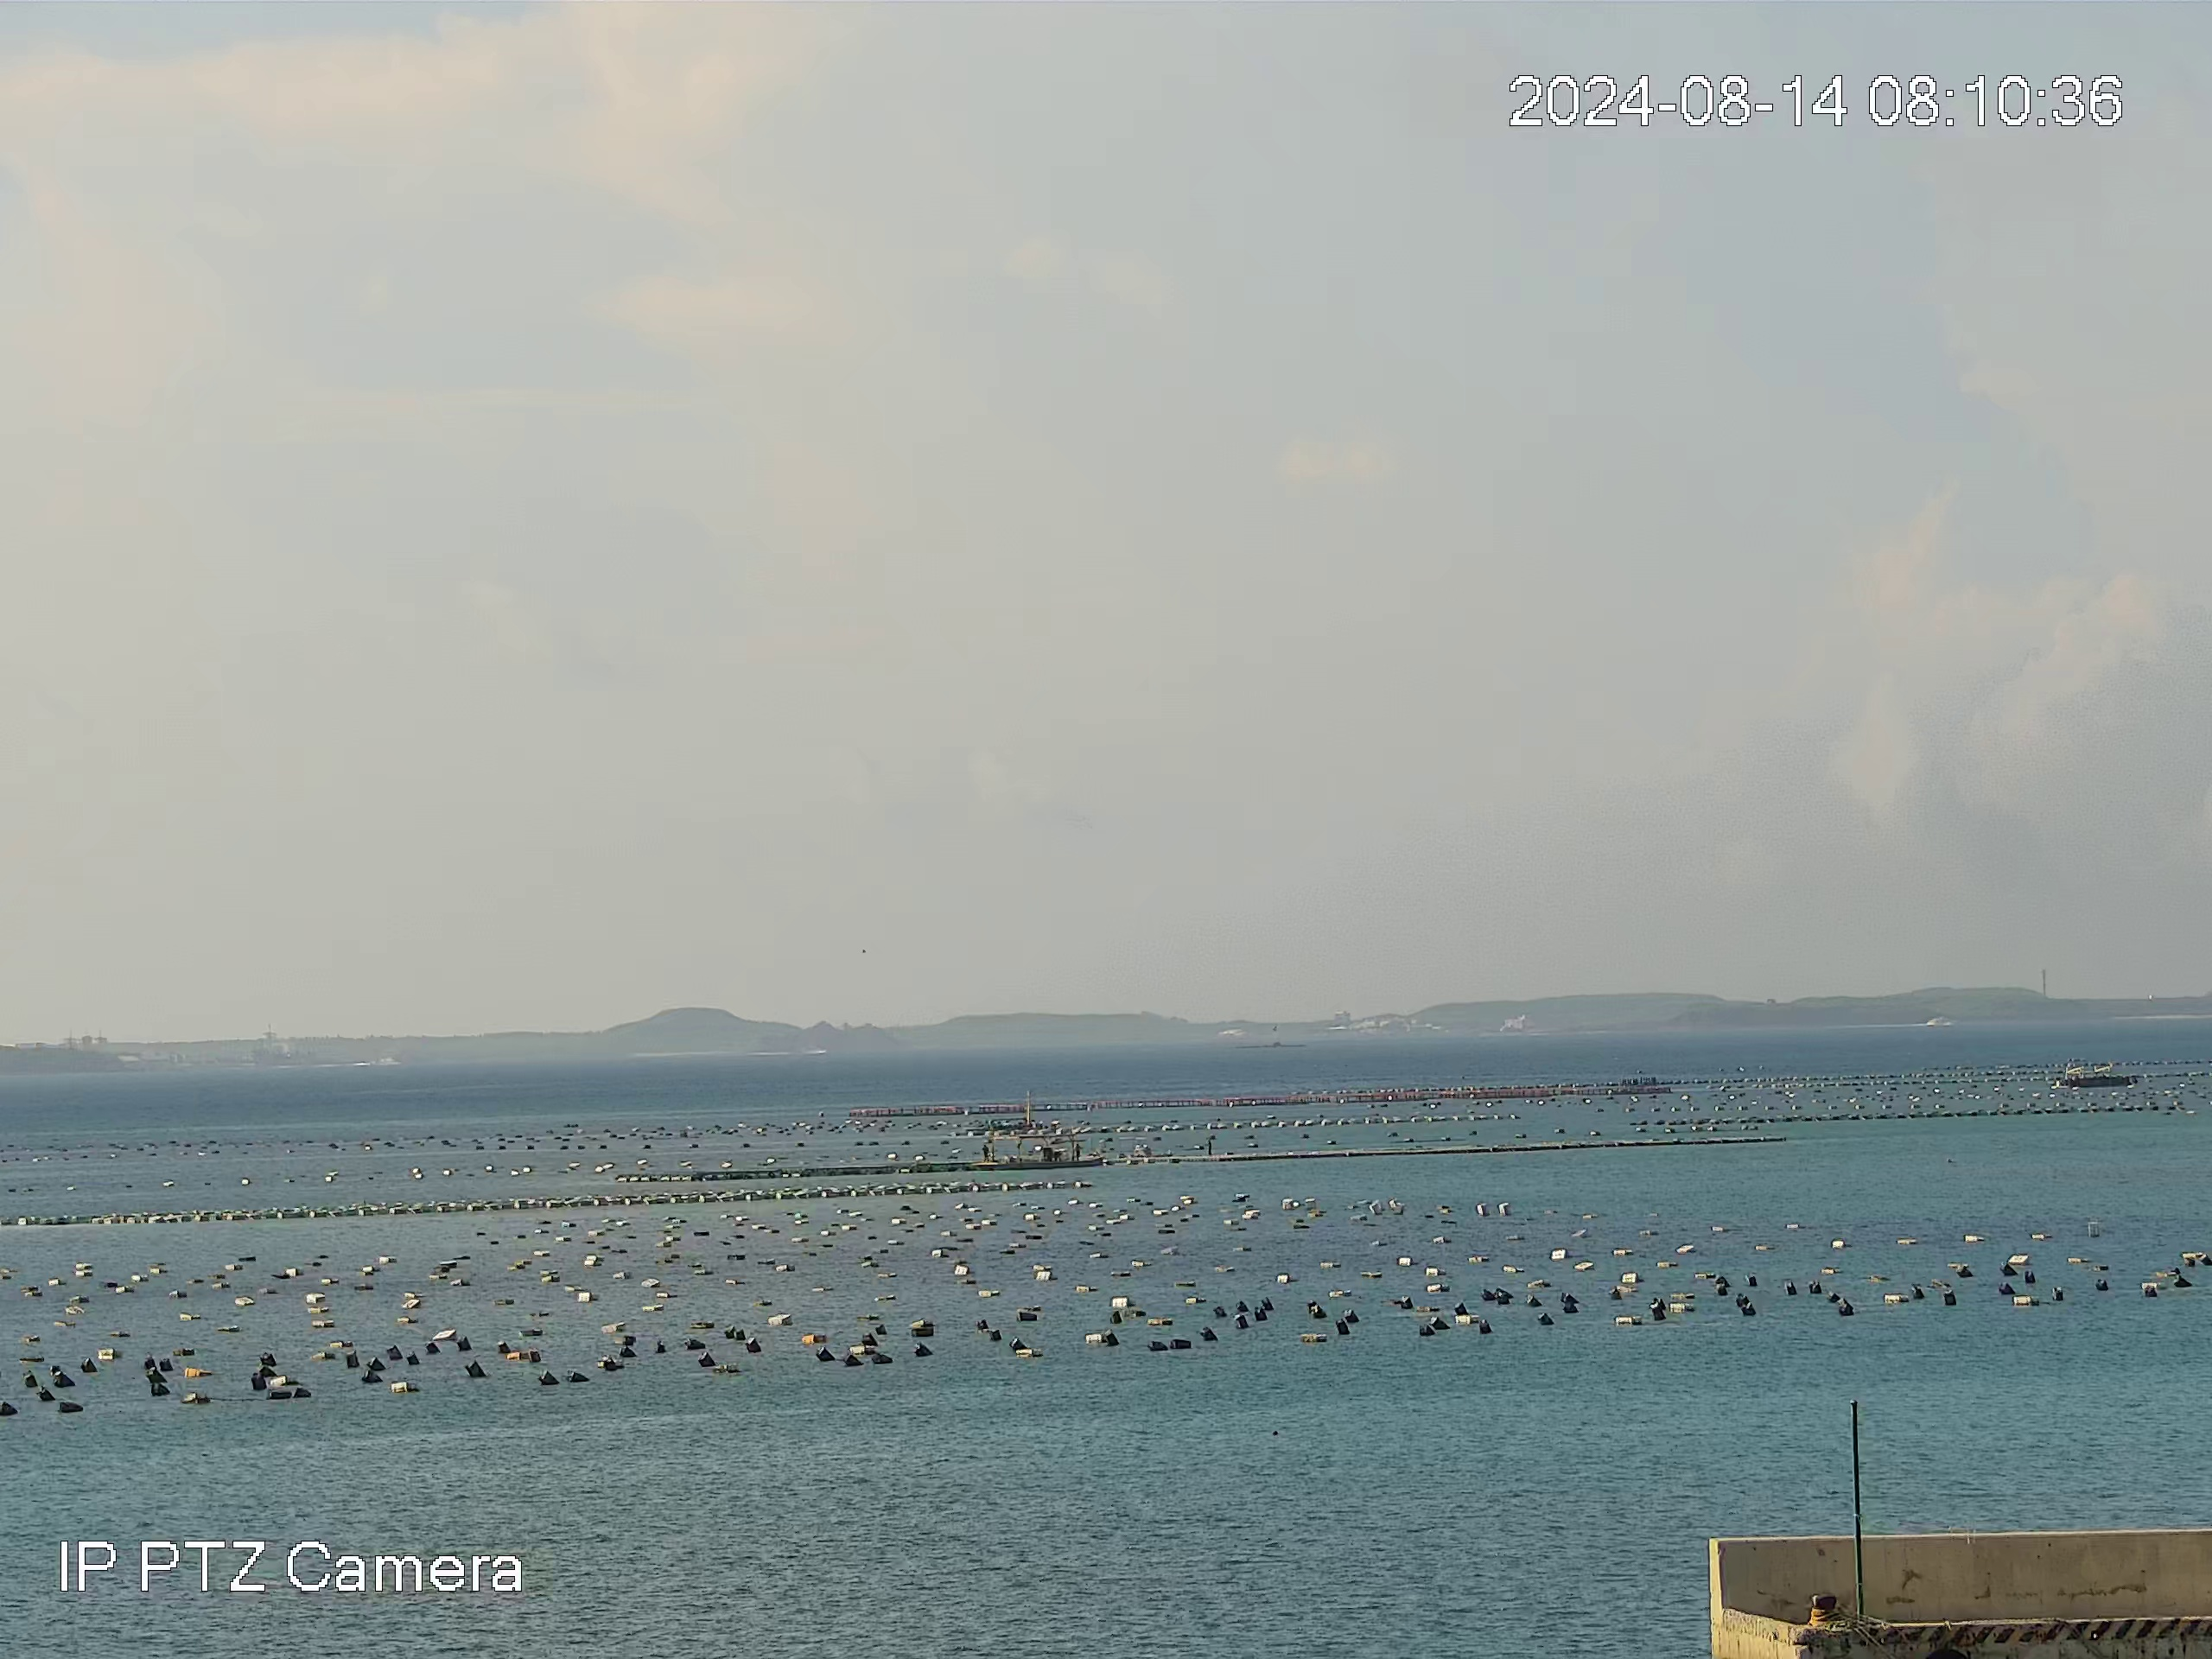boat: (972, 1136, 1103, 1166), (2054, 1060, 2132, 1089)
